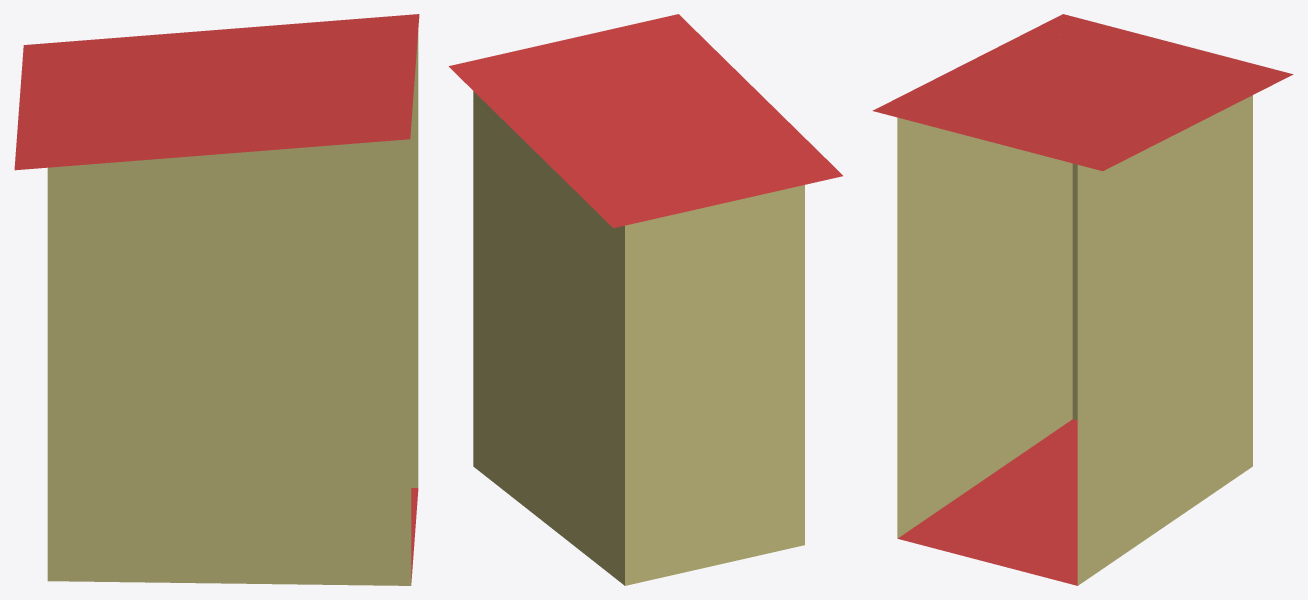
3 views of the same model, side by side, from view 1: azimuth 30°, elevation 25°; view 2: azimuth 150°, elevation 25°; view 3: azimuth 270°, elevation 25° (orthographic). The views are drawn at different scales.
Bounding box in the file's own units: 7.63 × 7.13 × 7.86.
